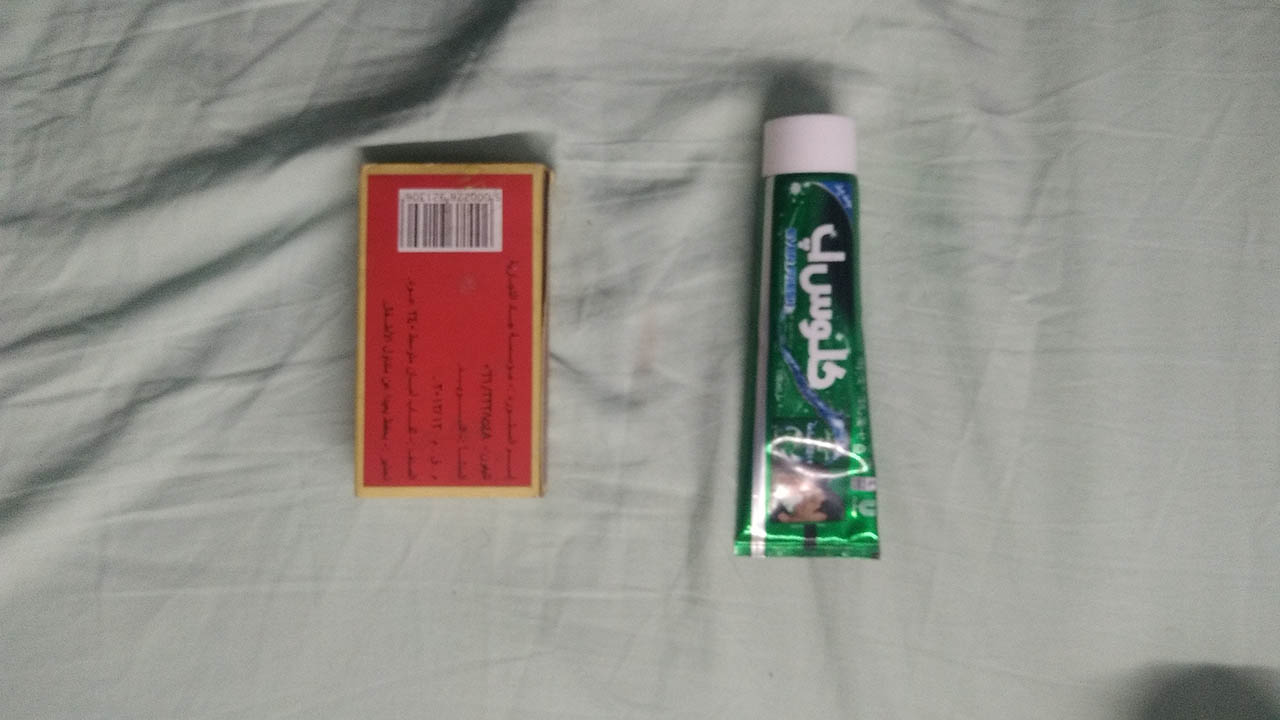Toothpaste-Closeup 3.04$: (737, 107, 900, 566)
match-sticks .90$: (336, 137, 554, 507)
